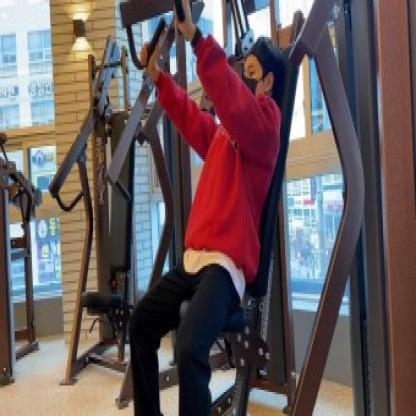Chest Press machine: (95, 3, 363, 416)
